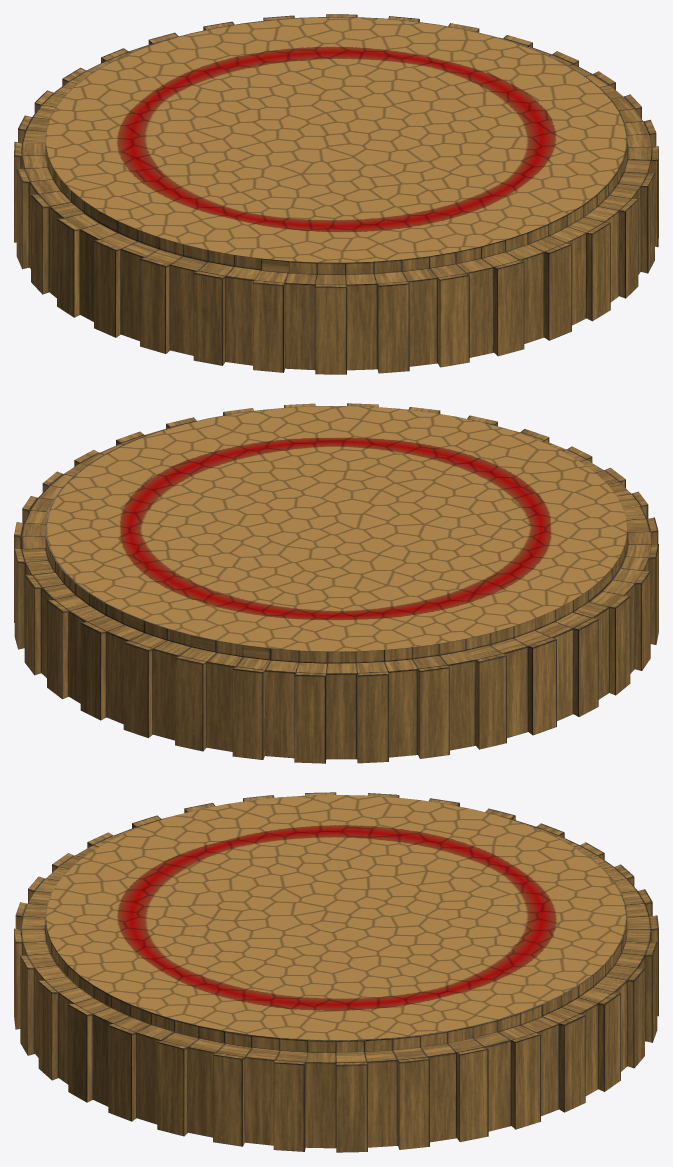
Rendered from Platform.fbx.
The picture shows the model from 3 angles, top to bottom: view 1: azimuth 30°, elevation 25°; view 2: azimuth 150°, elevation 25°; view 3: azimuth 270°, elevation 25°; orthographic projection.
Visible parts, largest first — view 1: Cylinder; view 2: Cylinder; view 3: Cylinder.
Part boxes in pixels (x1,y1,x2,y2): Cylinder: (14, 14, 658, 374); Cylinder: (14, 403, 658, 763); Cylinder: (14, 792, 658, 1152).
Bounding box in the file's own units: 2.05 × 0.345 × 2.05.
